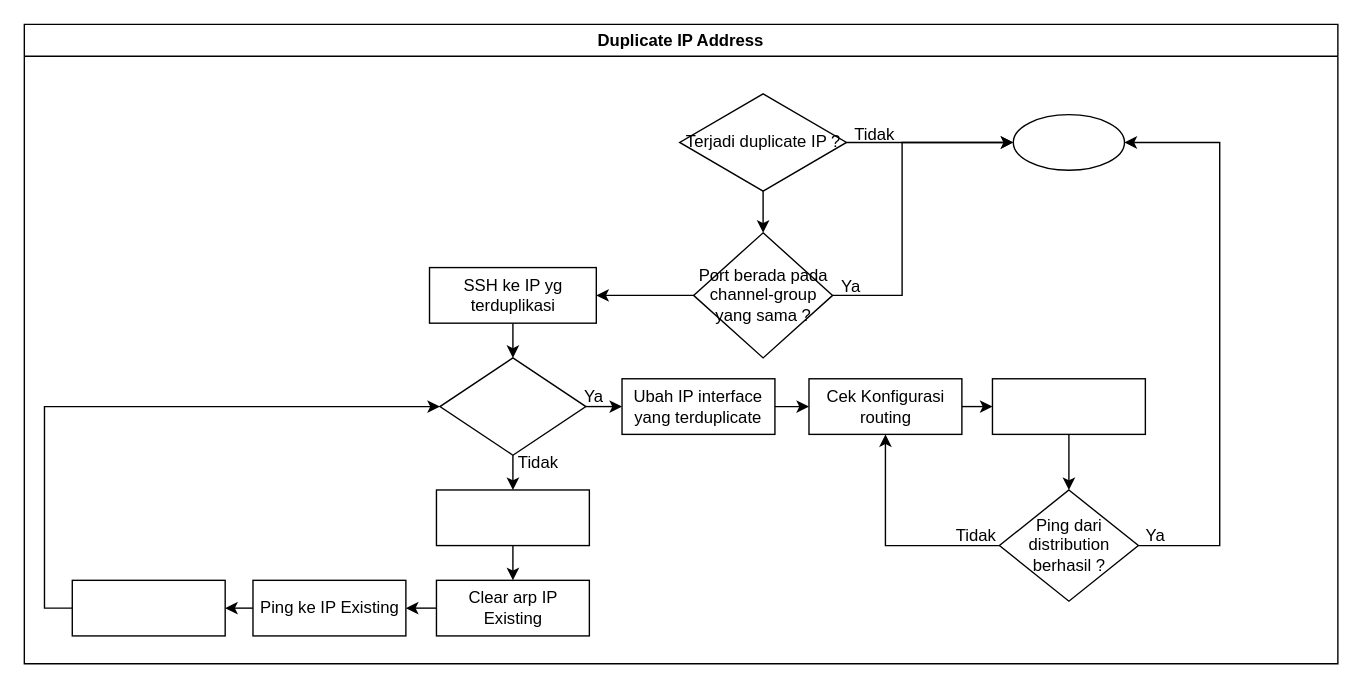
Some shapes in this 1362 by 688 pixel diagram are drawn without their labels. The centre of each missing label's shape, as x and y in pixels:
"Berhasil SSH ?" belongs at point 512,406.
"Clear arp IP yg terduplicate" belongs at point 1068,405.
"Remove salah satu port dari VLAN" belongs at point 512,517.
"Selesai" belongs at point 1068,141.
"SSH ke IP Existing" belongs at point 148,607.
